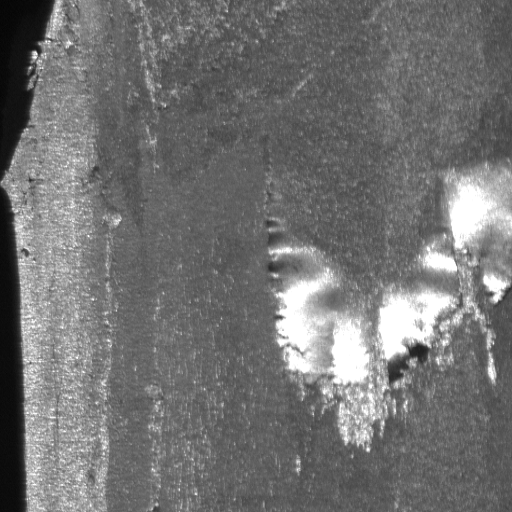qiaopi: (262, 155, 512, 454)
